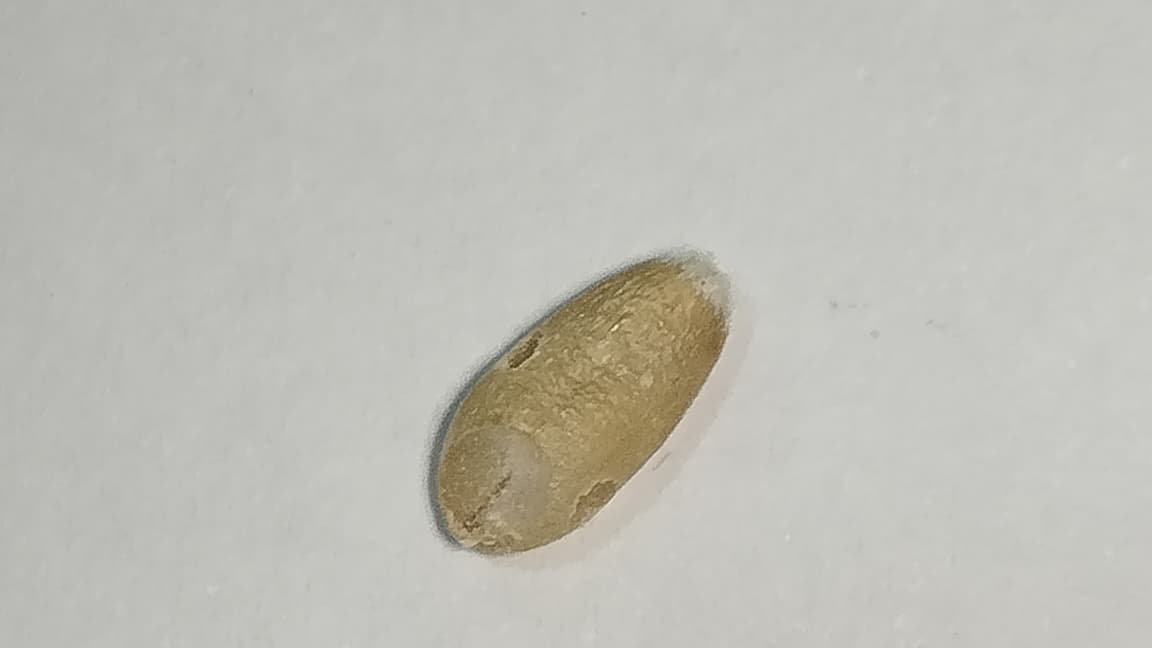damage: (438, 249, 727, 553)
insectdamage: (449, 421, 629, 552), (486, 328, 587, 389)
